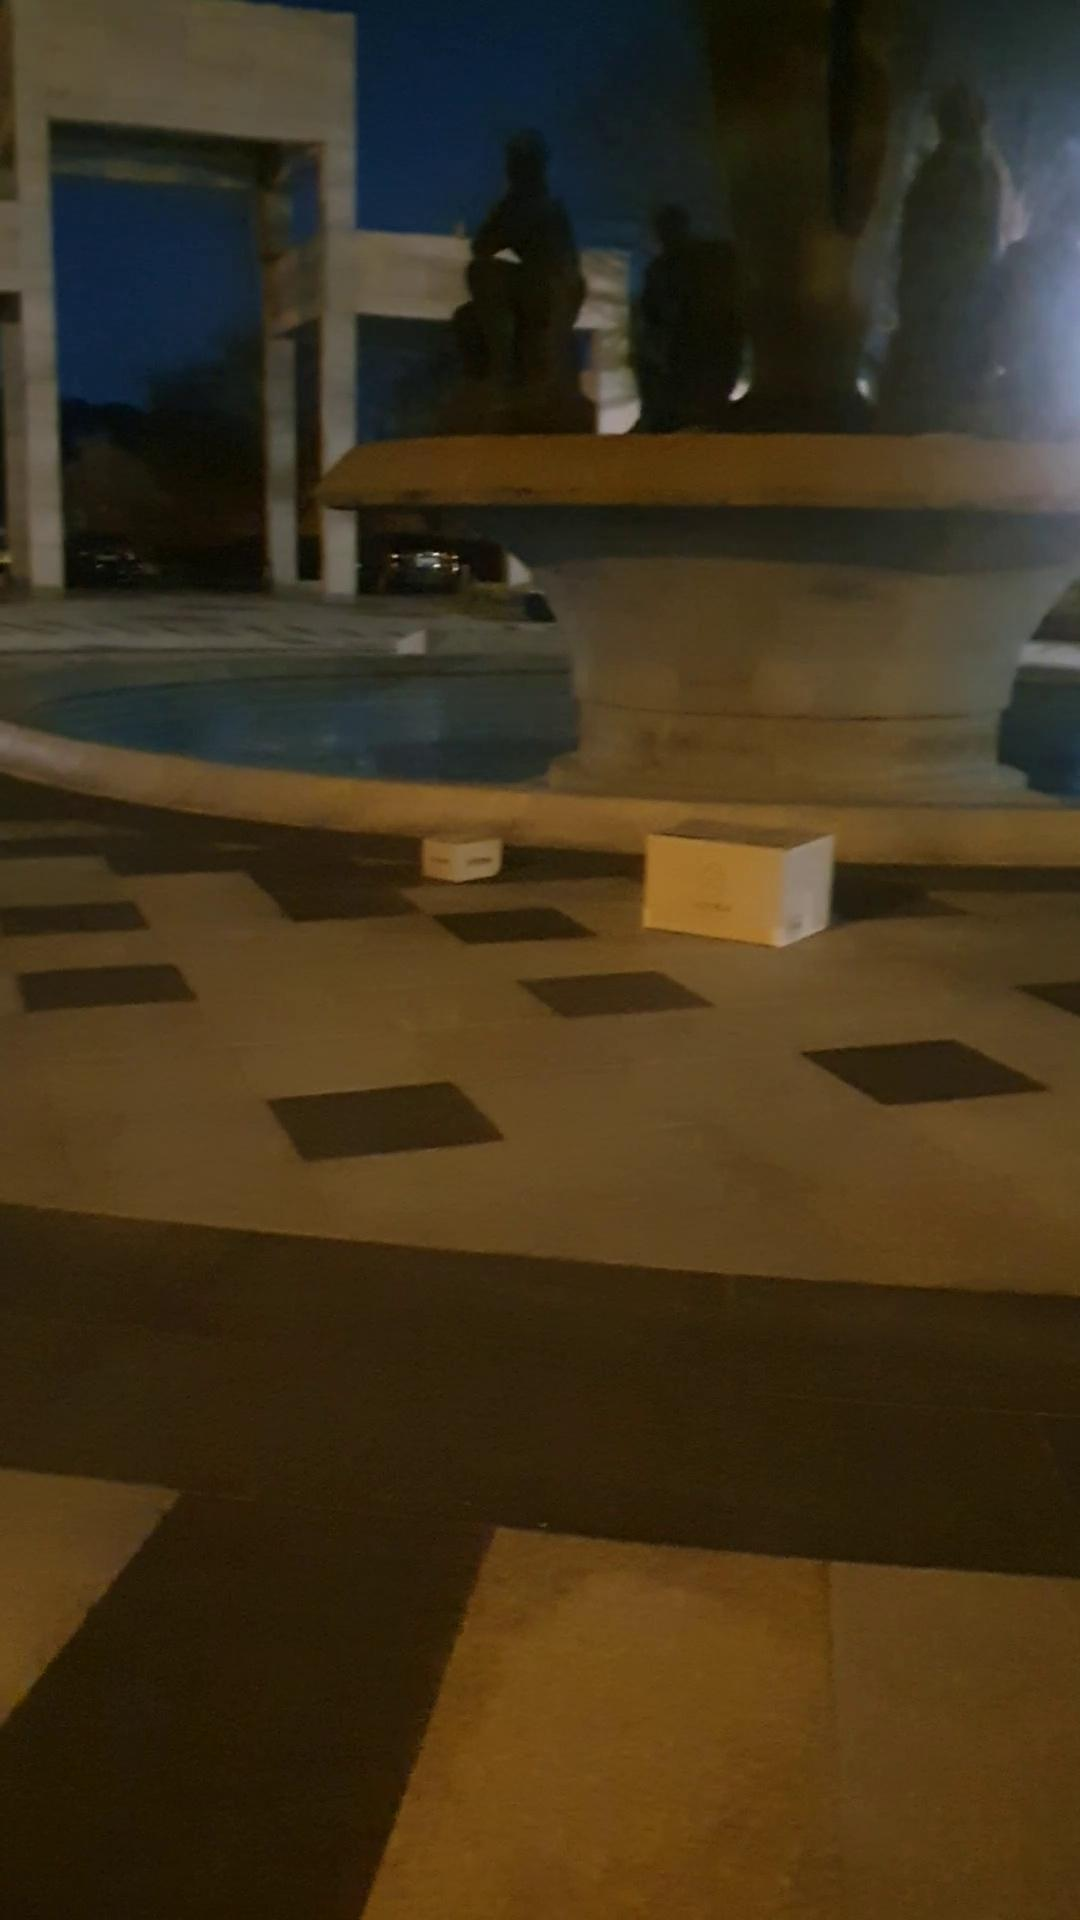Box: (636, 803, 829, 955), (411, 815, 524, 891)
